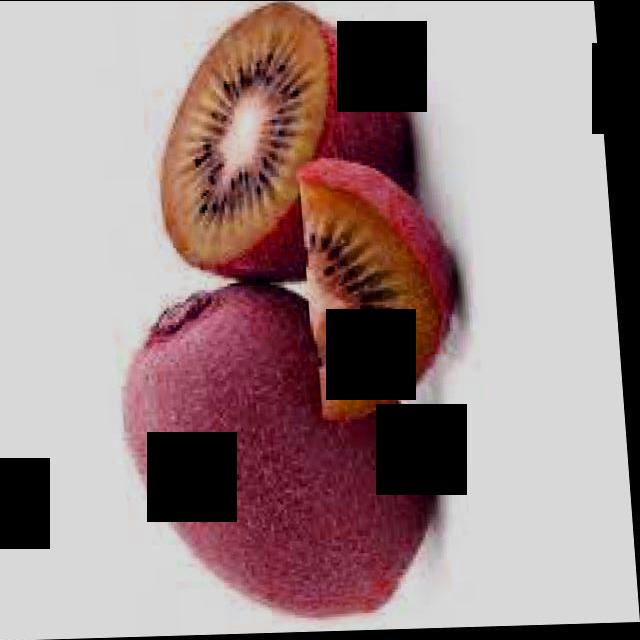kiwi: (120, 275, 450, 624)
